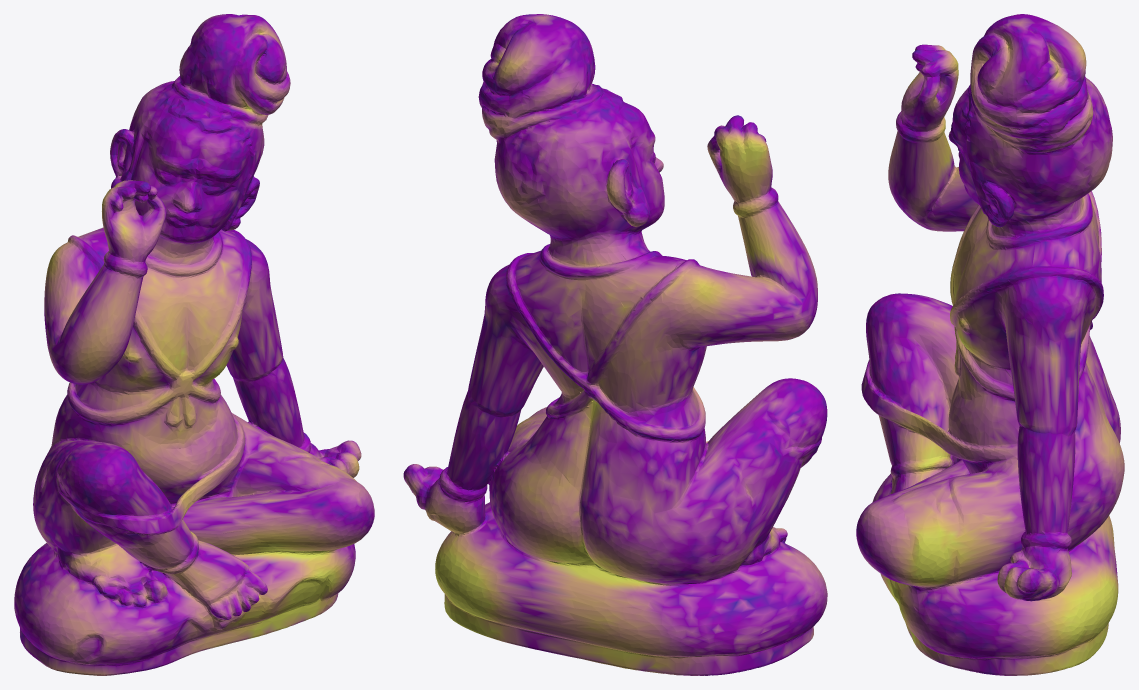
Rendered from iter_8.glb.
3 renders of one model, left to right at view 1: azimuth 30°, elevation 25°; view 2: azimuth 150°, elevation 25°; view 3: azimuth 270°, elevation 25°, orthographic. The views are drawn at different scales.
Visible parts, largest first — view 1: textured_mesh; view 2: textured_mesh; view 3: textured_mesh.
Boxes of the visible parts, x1=… form: textured_mesh: x1=14, y1=14, x2=374, y2=675; textured_mesh: x1=403, y1=14, x2=827, y2=675; textured_mesh: x1=856, y1=14, x2=1124, y2=675.
Size of the model in its own units: 1.33 by 1.99 by 0.7959.
